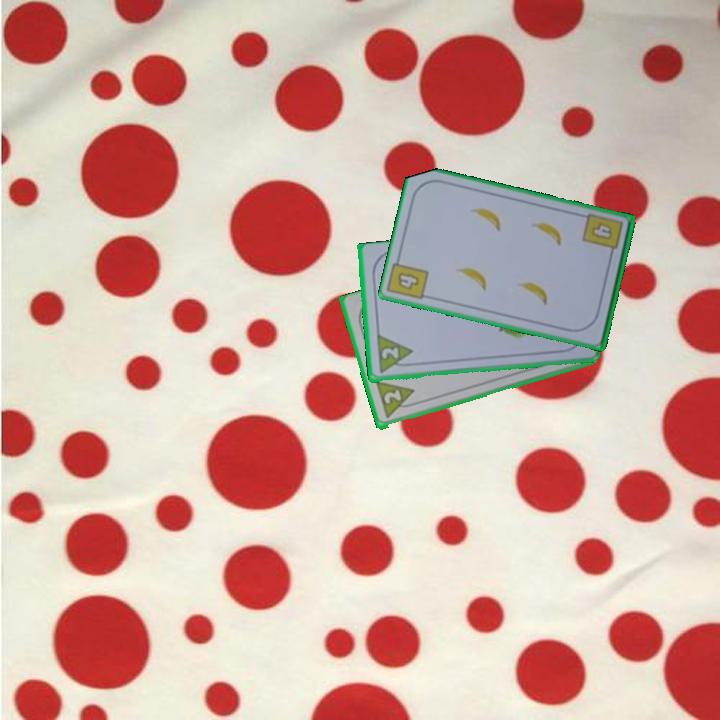2p: (380, 386, 404, 407), (377, 344, 401, 362)
4b: (579, 210, 625, 261), (394, 269, 422, 293)
